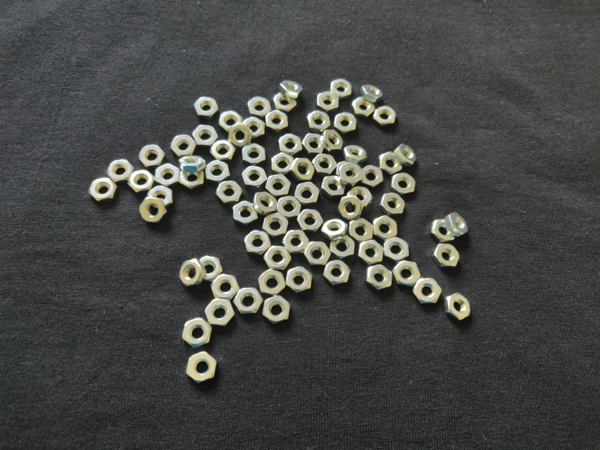nut: (203, 298, 237, 329), (186, 352, 217, 385), (182, 318, 211, 350), (261, 297, 292, 326), (321, 260, 353, 288), (176, 259, 205, 288), (364, 264, 392, 293), (432, 243, 459, 273), (303, 241, 331, 269), (88, 177, 117, 204), (289, 266, 314, 297), (235, 288, 263, 315), (260, 269, 287, 297), (394, 260, 422, 287), (446, 292, 470, 323), (139, 197, 166, 224), (137, 143, 165, 169), (211, 275, 239, 301), (414, 279, 440, 307), (358, 240, 387, 265), (245, 230, 272, 256), (265, 247, 292, 273), (321, 216, 348, 242), (263, 213, 290, 238), (337, 196, 364, 221), (215, 181, 245, 203), (298, 208, 323, 234), (380, 192, 405, 218), (241, 165, 268, 189), (374, 216, 398, 243), (385, 238, 410, 263), (156, 162, 180, 188), (205, 160, 231, 184), (233, 202, 259, 226), (350, 219, 374, 245), (393, 173, 417, 198), (380, 152, 404, 177), (201, 256, 224, 282), (283, 231, 309, 254), (106, 160, 133, 182), (431, 221, 455, 245), (339, 161, 363, 185), (269, 151, 293, 175), (247, 96, 272, 119), (277, 195, 303, 217), (302, 132, 324, 158), (344, 186, 372, 206), (267, 174, 291, 197), (242, 144, 265, 168), (266, 111, 289, 135), (147, 186, 176, 205), (194, 95, 219, 117), (170, 135, 196, 156), (211, 141, 237, 162), (129, 170, 152, 193), (352, 95, 375, 118), (296, 183, 320, 205), (374, 105, 398, 127), (280, 134, 302, 158), (231, 123, 253, 147), (334, 112, 358, 134), (180, 169, 205, 190), (193, 126, 218, 147), (321, 176, 345, 197), (256, 192, 277, 215), (318, 91, 339, 114), (396, 143, 416, 167), (331, 239, 356, 258), (364, 164, 383, 189), (294, 160, 315, 182), (221, 110, 244, 130), (315, 156, 339, 175), (450, 212, 467, 238), (309, 111, 330, 132), (329, 78, 351, 98), (245, 119, 266, 139), (324, 132, 344, 153), (346, 145, 368, 164), (179, 156, 206, 171), (280, 80, 302, 98), (363, 84, 383, 102), (273, 95, 296, 110)
